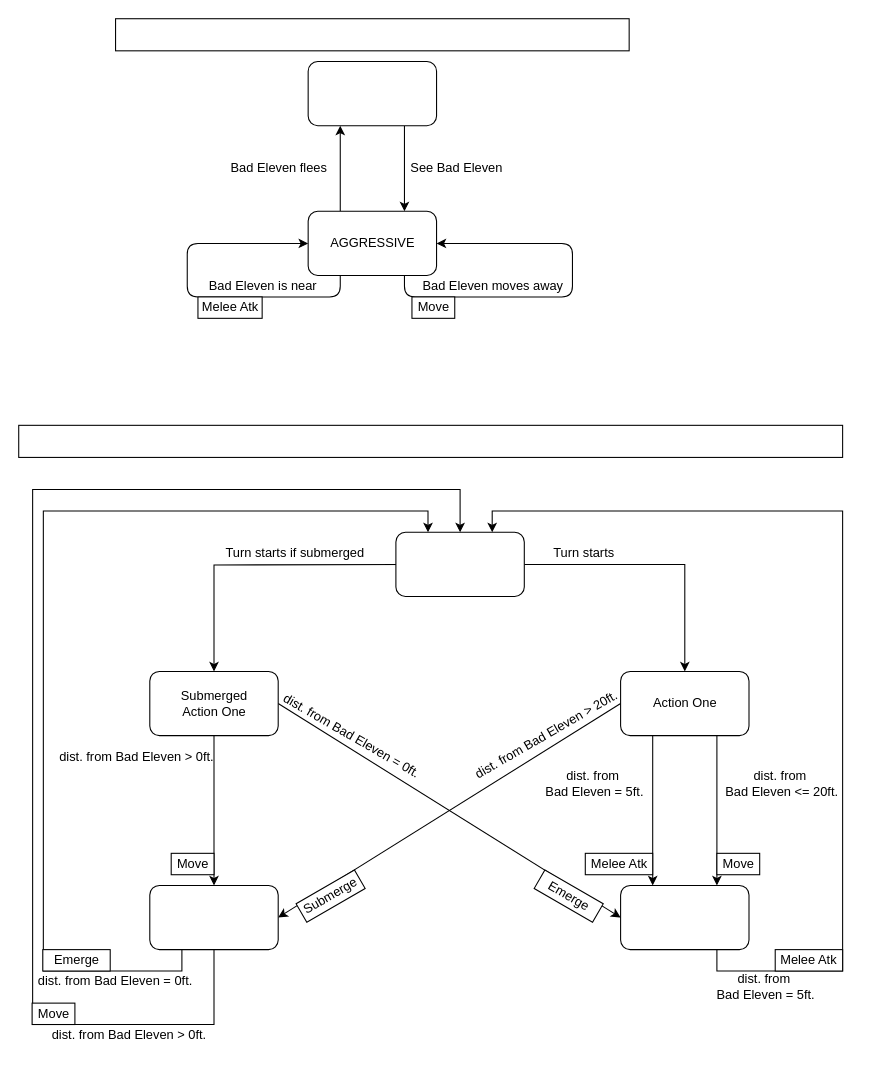
Some shapes in this 870 by 1065 pixel diagram are drawn without their labels. Each missing label, with the centre of its shape:
"Action Two" goes at point (684, 917).
"Battle Mode" goes at point (430, 440).
"Free Roaming" goes at point (371, 34).
"IDLE" goes at point (372, 93).
"Submerged Action Two" goes at point (213, 917).
"Wait Turn" goes at point (459, 564).
